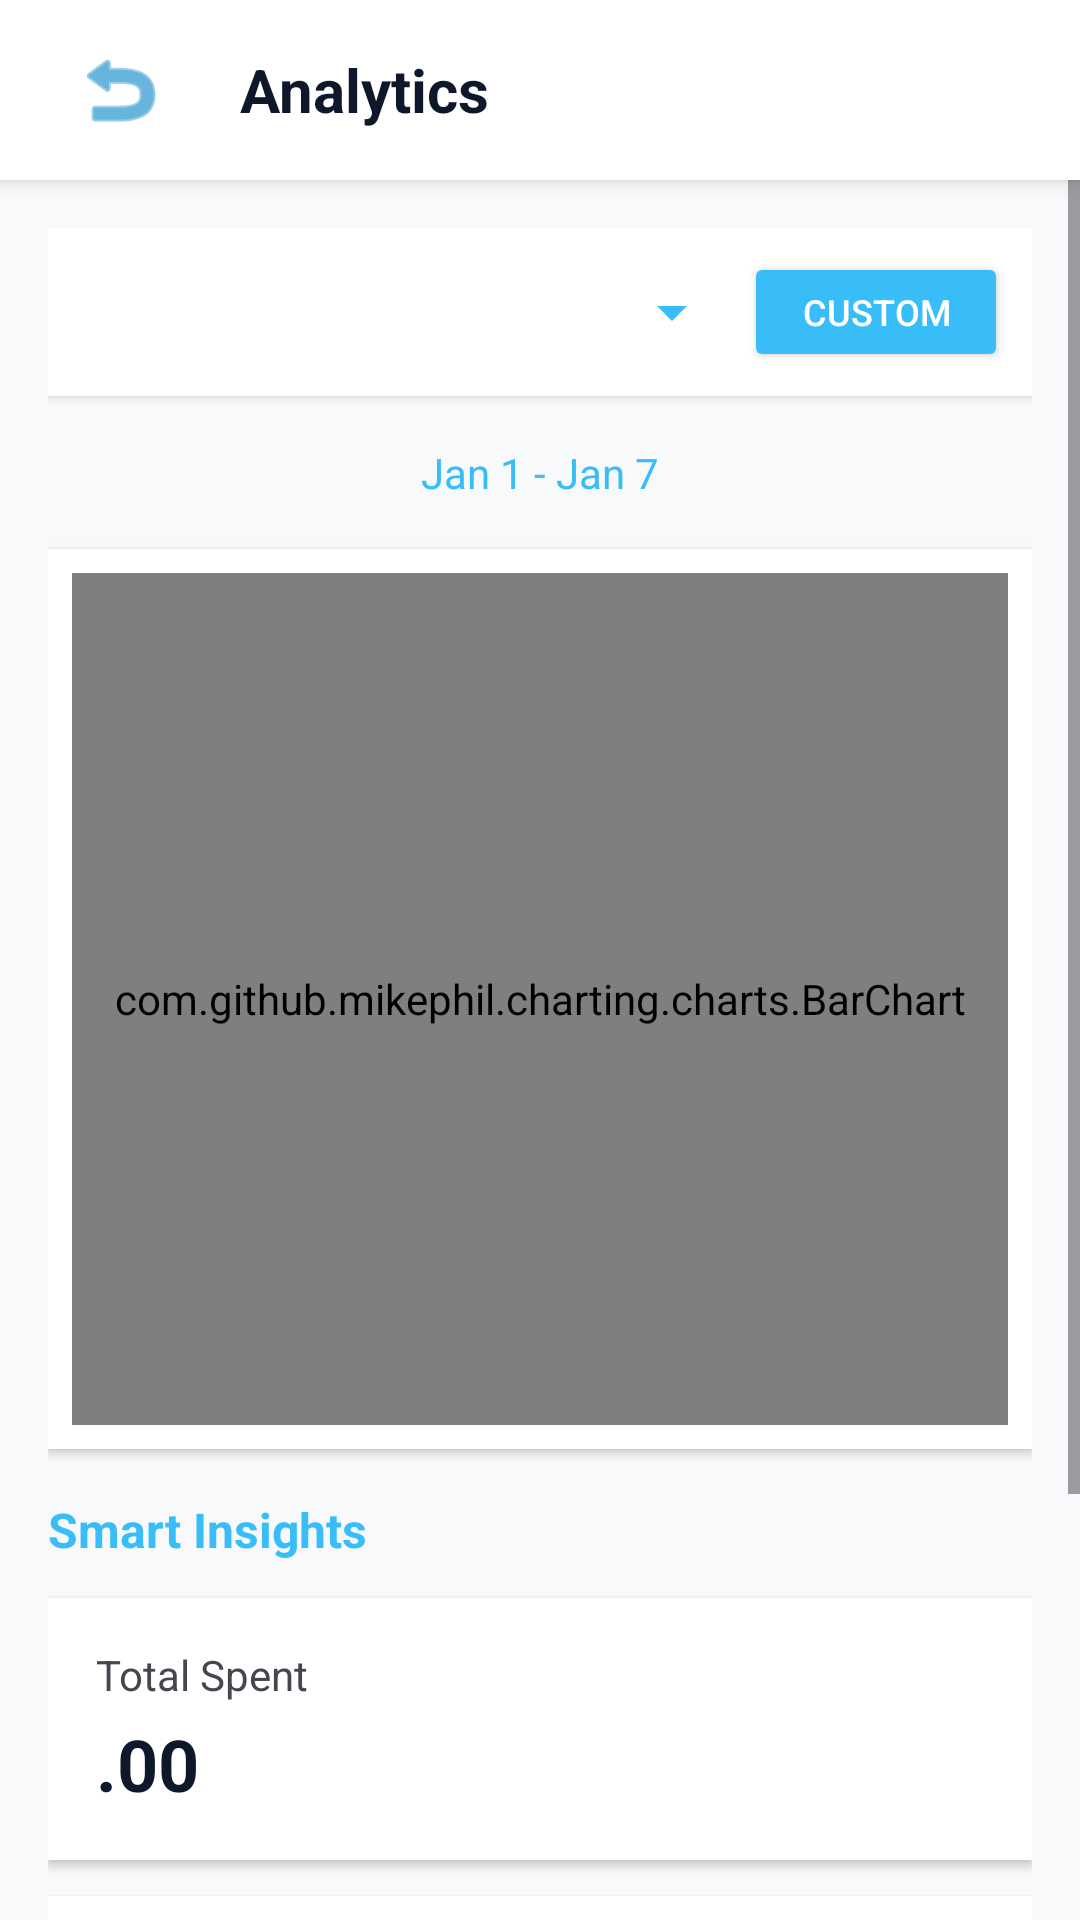

Named icons in this screenshot (1080 x 1920) and their centers, (x,y):
Back: (121,90)
